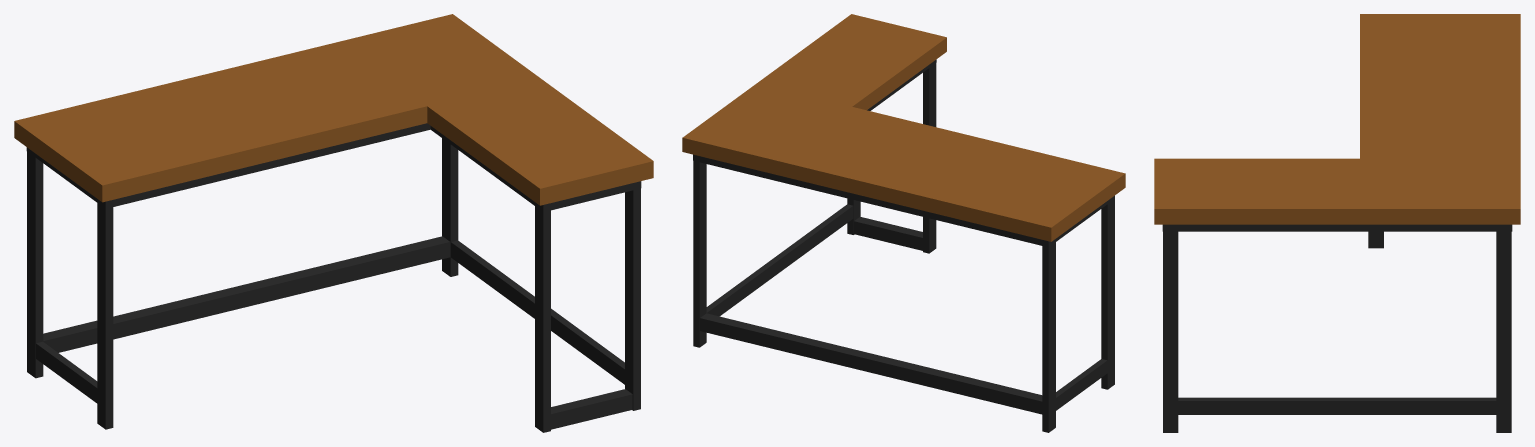
The model's file is table.fbx.
3 views of the same model, side by side, from view 1: azimuth 30°, elevation 25°; view 2: azimuth 150°, elevation 25°; view 3: azimuth 270°, elevation 25° (orthographic). The views are drawn at different scales.
Parts seen in each view (by area): view 1: table; view 2: table; view 3: table.
Part boxes in pixels (x1,y1,x2,y2): table: [14, 14, 653, 432]; table: [682, 14, 1125, 432]; table: [1154, 14, 1520, 432].
Bounding box in the file's own units: 3.64 × 1.98 × 2.89.
Materials: 1 (1 with a texture image).
